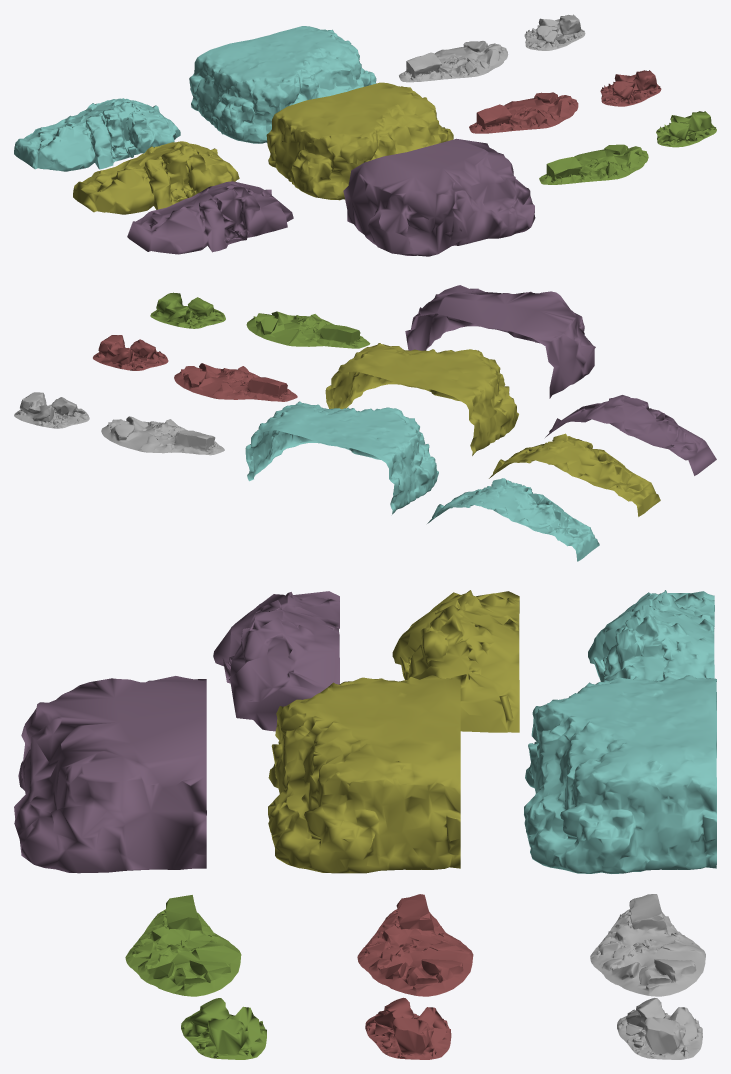
Rendered from BGRocks3.fbx.
3 views of the same model, one above another, from view 1: azimuth 30°, elevation 25°; view 2: azimuth 150°, elevation 25°; view 3: azimuth 270°, elevation 25° (orthographic). The views are drawn at different scales.
Visible parts, largest first — view 1: xckjagi_LOD0_TIER2_002, xckjagi_LOD0_TIER2_000, xckjagi_LOD0_TIER2_001, xckifaf_LOD0_TIER2_000, xckifaf_LOD0_TIER2_002, xckifaf_LOD0_TIER2_001, xckjajs_LOD0_TIER2_000, xckjajs_LOD0_TIER2_001, xckjajs_LOD0_TIER2_002, xbrgfar_LOD0_TIER2_001, xbrgfar_LOD0_TIER2_000, xbrgfar_LOD0_TIER2_002; view 2: xckjagi_LOD0_TIER2_000, xckjagi_LOD0_TIER2_001, xckjagi_LOD0_TIER2_002, xckifaf_LOD0_TIER2_000, xckifaf_LOD0_TIER2_001, xckifaf_LOD0_TIER2_002, xckjajs_LOD0_TIER2_000, xckjajs_LOD0_TIER2_001, xckjajs_LOD0_TIER2_002, xbrgfar_LOD0_TIER2_000, xbrgfar_LOD0_TIER2_001, xbrgfar_LOD0_TIER2_002; view 3: xckjagi_LOD0_TIER2_000, xckjagi_LOD0_TIER2_001, xckjagi_LOD0_TIER2_002, xckifaf_LOD0_TIER2_001, xckifaf_LOD0_TIER2_002, xckifaf_LOD0_TIER2_000, xckjajs_LOD0_TIER2_000, xckjajs_LOD0_TIER2_001, xckjajs_LOD0_TIER2_002, xbrgfar_LOD0_TIER2_000, xbrgfar_LOD0_TIER2_001, xbrgfar_LOD0_TIER2_002.
Part boxes in pixels (bbox=[...]): xckjagi_LOD0_TIER2_002: bbox=[343, 138, 535, 256]; xckjagi_LOD0_TIER2_000: bbox=[189, 26, 376, 143]; xckjagi_LOD0_TIER2_001: bbox=[266, 82, 453, 200]; xckifaf_LOD0_TIER2_000: bbox=[14, 98, 180, 171]; xckifaf_LOD0_TIER2_002: bbox=[127, 181, 293, 254]; xckifaf_LOD0_TIER2_001: bbox=[73, 141, 239, 214]; xckjajs_LOD0_TIER2_000: bbox=[399, 41, 508, 82]; xckjajs_LOD0_TIER2_001: bbox=[469, 92, 578, 133]; xckjajs_LOD0_TIER2_002: bbox=[539, 144, 648, 184]; xbrgfar_LOD0_TIER2_001: bbox=[600, 70, 661, 106]; xbrgfar_LOD0_TIER2_000: bbox=[524, 14, 585, 50]; xbrgfar_LOD0_TIER2_002: bbox=[656, 111, 716, 147]; xckjagi_LOD0_TIER2_000: bbox=[245, 401, 438, 514]; xckjagi_LOD0_TIER2_001: bbox=[325, 343, 518, 455]; xckjagi_LOD0_TIER2_002: bbox=[405, 285, 595, 398]; xckifaf_LOD0_TIER2_000: bbox=[427, 478, 599, 561]; xckifaf_LOD0_TIER2_001: bbox=[489, 433, 660, 516]; xckifaf_LOD0_TIER2_002: bbox=[545, 395, 716, 475]; xckjajs_LOD0_TIER2_000: bbox=[101, 416, 224, 455]; xckjajs_LOD0_TIER2_001: bbox=[174, 363, 297, 401]; xckjajs_LOD0_TIER2_002: bbox=[246, 311, 370, 348]; xbrgfar_LOD0_TIER2_000: bbox=[14, 392, 89, 428]; xbrgfar_LOD0_TIER2_001: bbox=[93, 335, 168, 370]; xbrgfar_LOD0_TIER2_002: bbox=[150, 292, 225, 328]; xckjagi_LOD0_TIER2_000: bbox=[524, 675, 716, 873]; xckjagi_LOD0_TIER2_001: bbox=[268, 675, 460, 873]; xckjagi_LOD0_TIER2_002: bbox=[14, 676, 206, 873]; xckifaf_LOD0_TIER2_001: bbox=[392, 590, 519, 732]; xckifaf_LOD0_TIER2_002: bbox=[213, 591, 339, 731]; xckifaf_LOD0_TIER2_000: bbox=[588, 590, 714, 681]; xckjajs_LOD0_TIER2_000: bbox=[590, 894, 705, 996]; xckjajs_LOD0_TIER2_001: bbox=[357, 894, 473, 996]; xckjajs_LOD0_TIER2_002: bbox=[125, 895, 241, 996]; xbrgfar_LOD0_TIER2_000: bbox=[617, 997, 702, 1059]; xbrgfar_LOD0_TIER2_001: bbox=[365, 997, 451, 1059]; xbrgfar_LOD0_TIER2_002: bbox=[181, 998, 266, 1059].
Size of the model in its own units: 1502 by 165 by 997.
